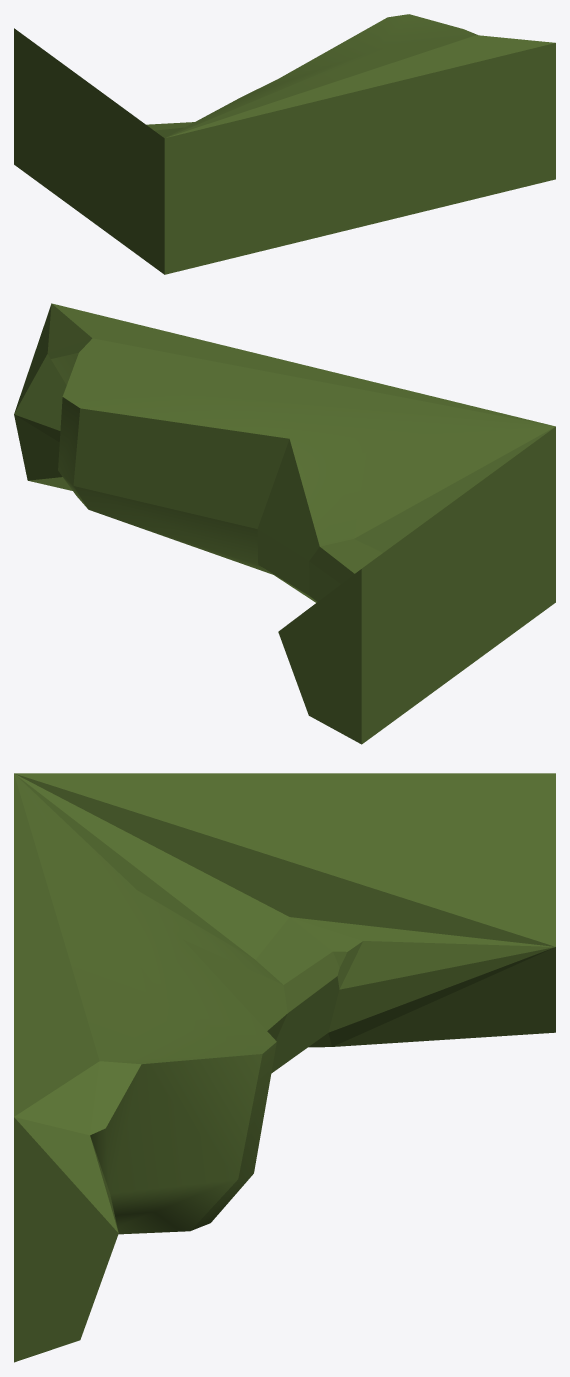
The model's file is LightVegetationEdgeMediumInternalCurve1.fbx.
3 renders of one model, top to bottom at view 1: azimuth 30°, elevation 25°; view 2: azimuth 150°, elevation 25°; view 3: azimuth 270°, elevation 25°, orthographic. The views are drawn at different scales.
Visible parts, largest first — view 1: LightVegetationEdgeEdgeMediumInternalCurve1; view 2: LightVegetationEdgeEdgeMediumInternalCurve1; view 3: LightVegetationEdgeEdgeMediumInternalCurve1.
Boxes of the visible parts, bbox=[...] form: LightVegetationEdgeEdgeMediumInternalCurve1: bbox=[14, 14, 555, 274]; LightVegetationEdgeEdgeMediumInternalCurve1: bbox=[14, 303, 555, 744]; LightVegetationEdgeEdgeMediumInternalCurve1: bbox=[14, 773, 555, 1362].
Size of the model in its own units: 600 by 206 by 400.
